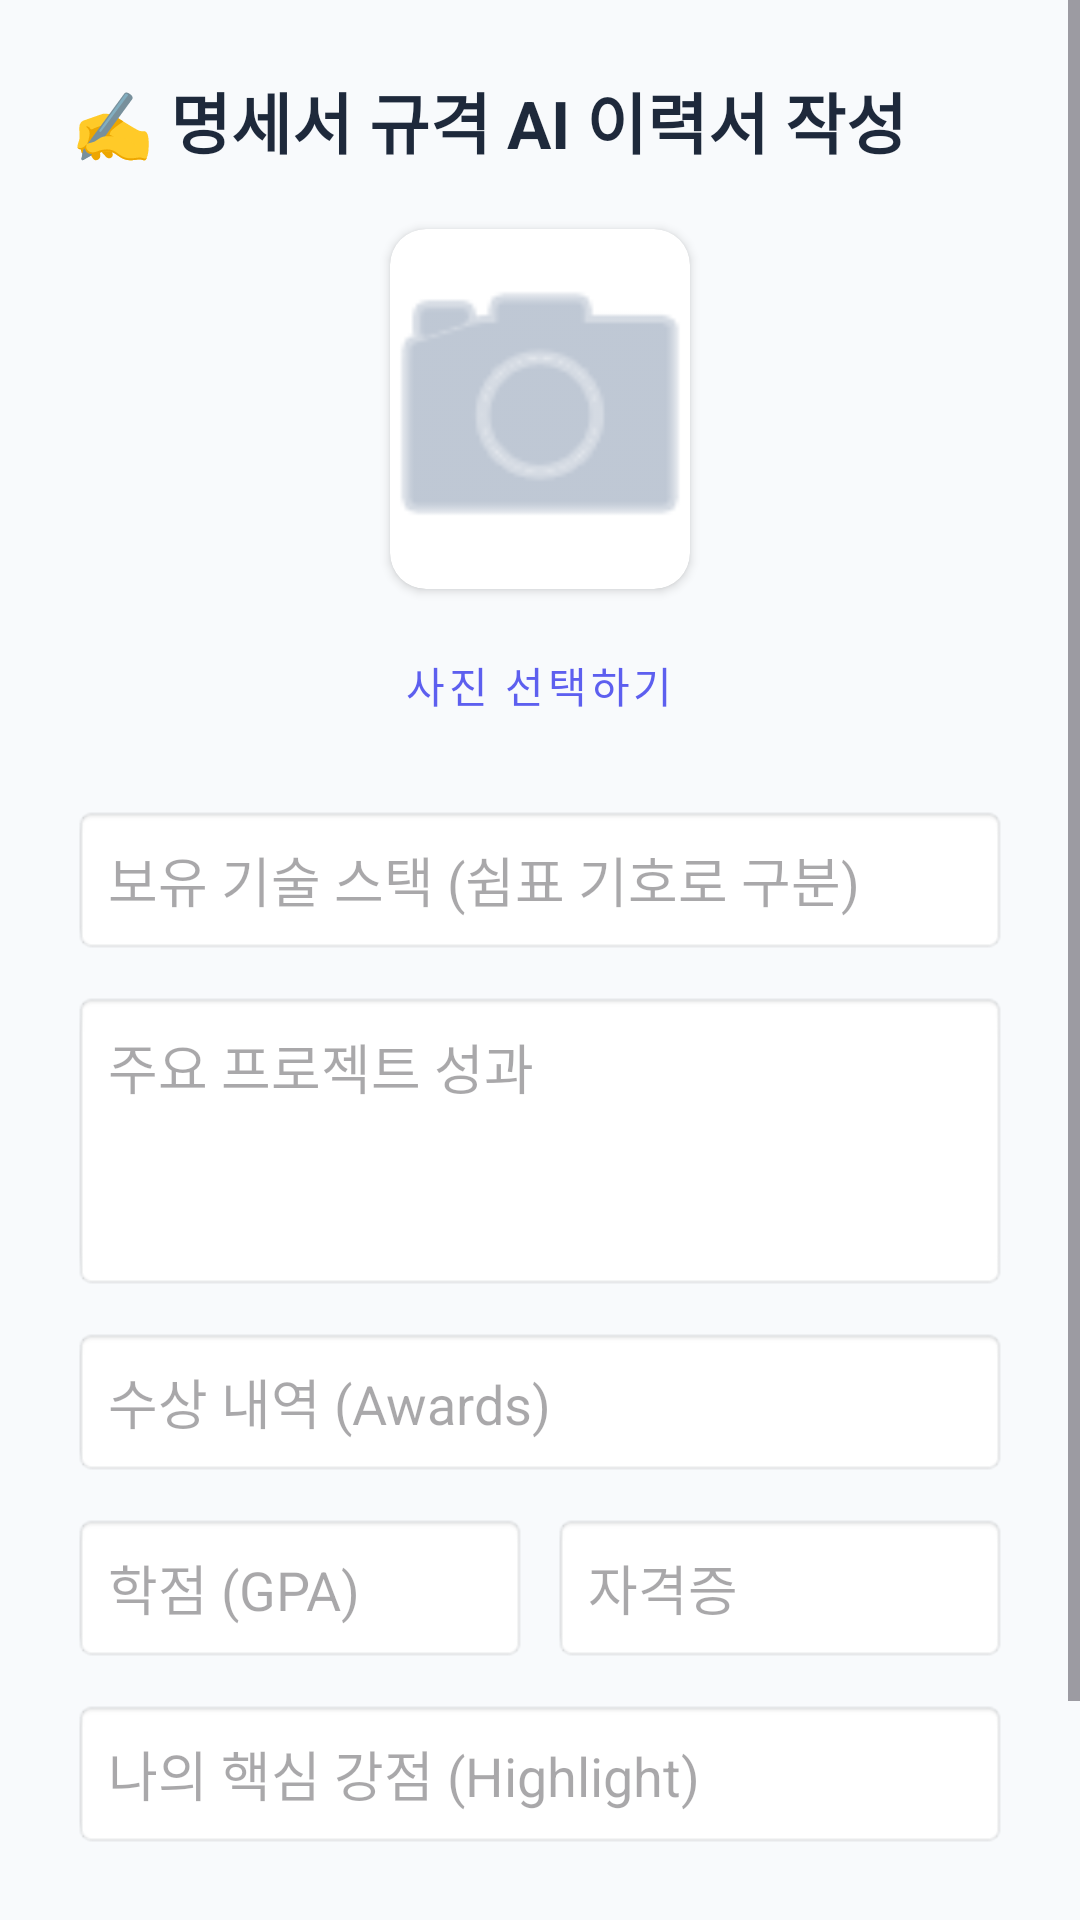

Icon click points for this 1080px×1920px phone screenshot, format (x=x, y=y):
camera: (x=540, y=443)
